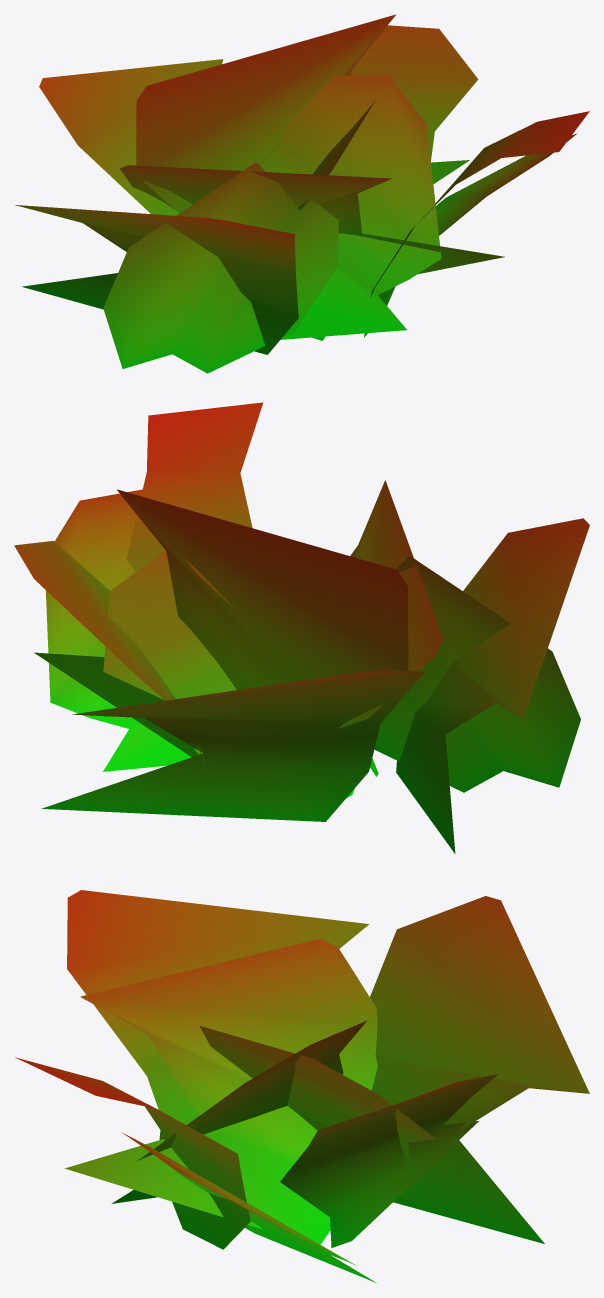
File: tl2jbhcja_Var7_LOD0.fbx
The picture shows the model from 3 angles, top to bottom: view 1: azimuth 30°, elevation 25°; view 2: azimuth 150°, elevation 25°; view 3: azimuth 270°, elevation 25°; orthographic projection. The views are drawn at different scales.
Visible parts, largest first — view 1: _c847_Var7_LOD0; view 2: _c847_Var7_LOD0; view 3: _c847_Var7_LOD0.
Boxes of the visible parts, left/top/right/bottom form: _c847_Var7_LOD0: left=15, top=14, right=589, bottom=373; _c847_Var7_LOD0: left=14, top=402, right=589, bottom=853; _c847_Var7_LOD0: left=15, top=890, right=589, bottom=1282.
Bounding box in the file's own units: 13.34 × 6.72 × 12.15.
